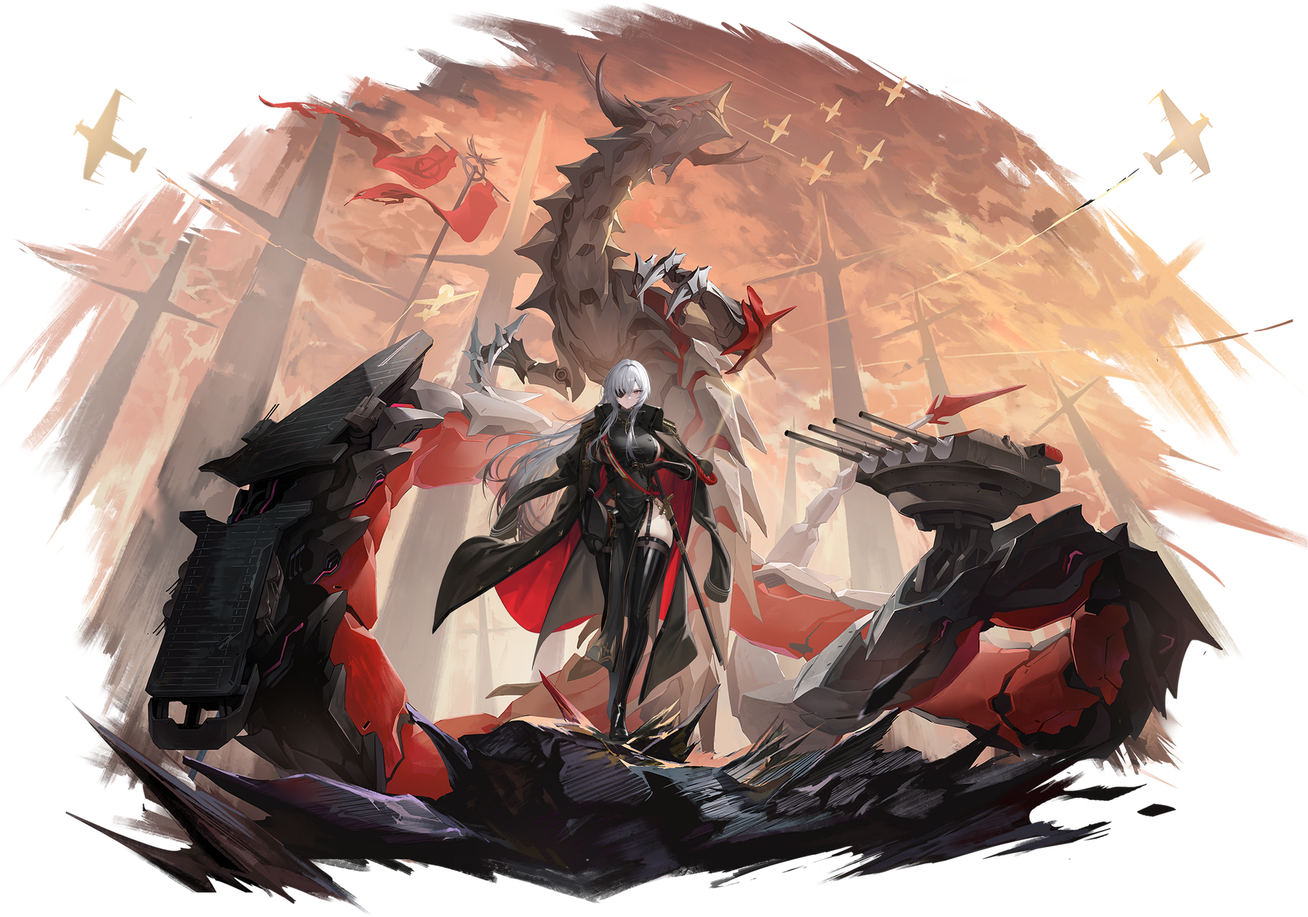person: (450, 335, 756, 796)
